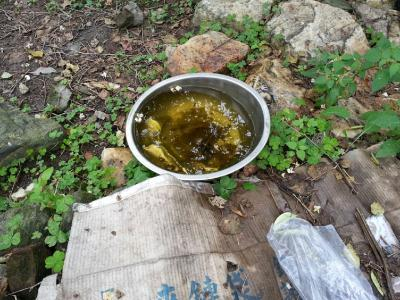bowl: (123, 69, 275, 186)
plastic_bag: (268, 212, 369, 300)
